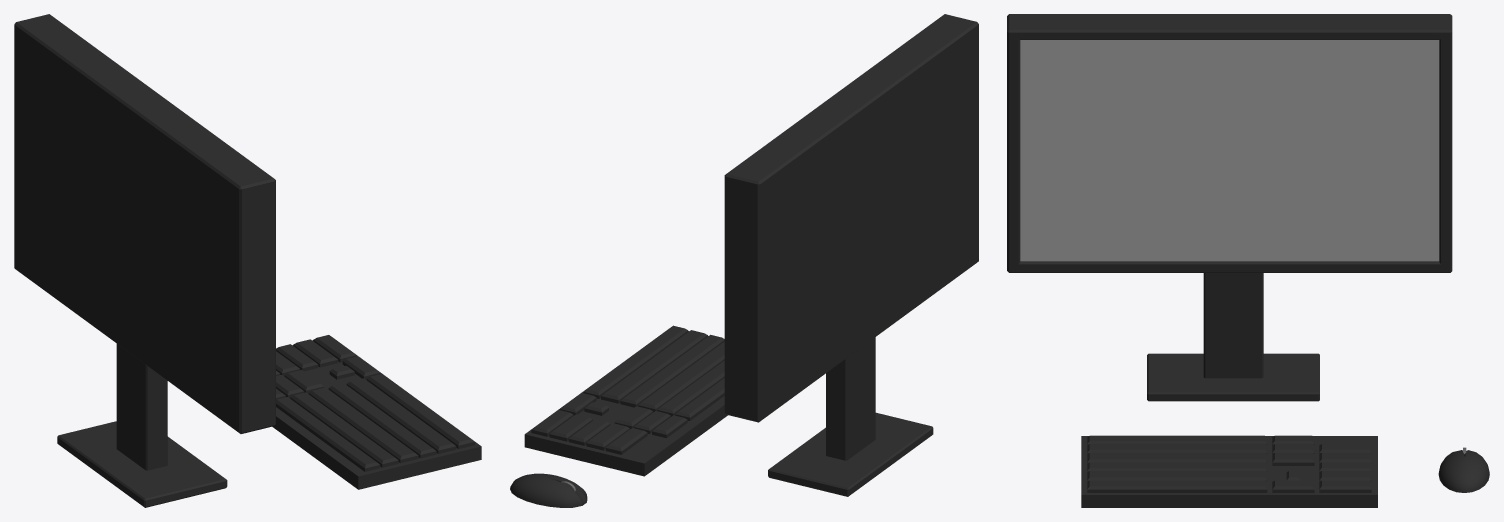
Rendered from Computer (updated).fbx.
3 views of the same model, side by side, from view 1: azimuth 30°, elevation 25°; view 2: azimuth 150°, elevation 25°; view 3: azimuth 270°, elevation 25° (orthographic). The views are drawn at different scales.
Visible parts, largest first — view 1: Screen, Keyboard; view 2: Screen, Keyboard, Mouse; view 3: Screen, Keyboard, Mouse.
Part boxes in pixels (box(x1,y1,x2,y2)): Screen: box(14, 14, 275, 507); Keyboard: box(272, 335, 481, 489); Screen: box(724, 14, 978, 496); Keyboard: box(524, 325, 727, 476); Mouse: box(510, 473, 587, 507); Screen: box(1007, 14, 1452, 401); Keyboard: box(1081, 435, 1377, 507); Mouse: box(1438, 447, 1489, 492).
Bounding box in the file's own units: 195 × 227 × 274.
